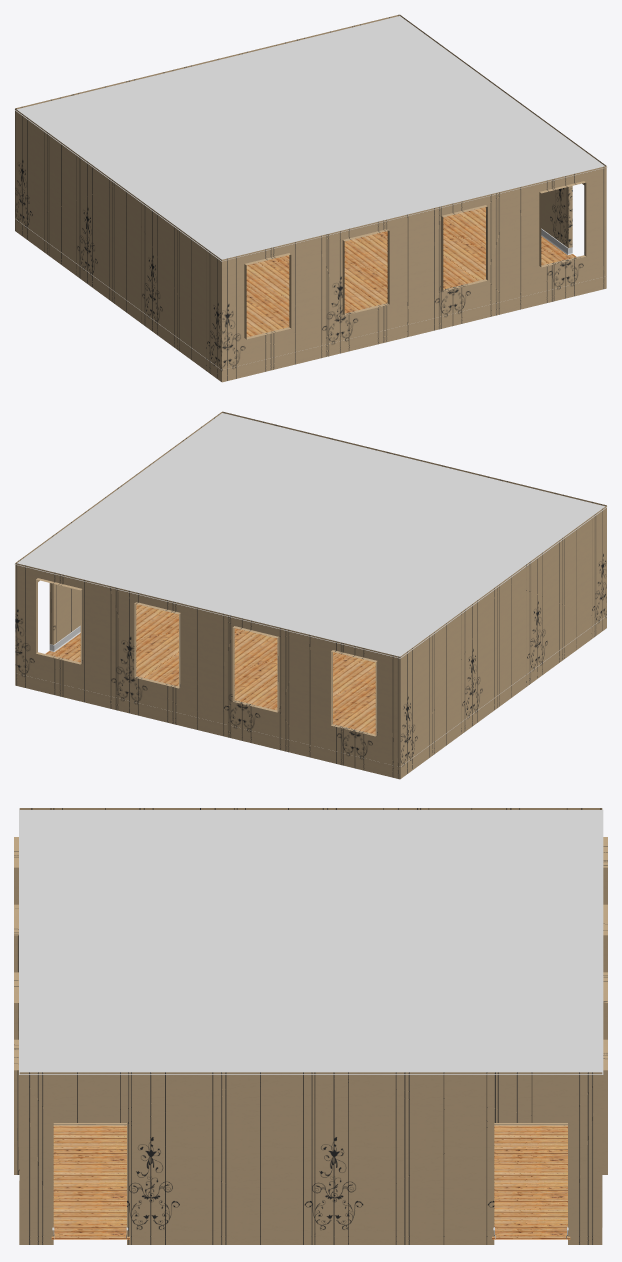
The model's file is BUILDING_flat_02.FBX.
3 renders of one model, top to bottom at view 1: azimuth 30°, elevation 25°; view 2: azimuth 150°, elevation 25°; view 3: azimuth 270°, elevation 25°, orthographic. The views are drawn at different scales.
Parts seen in each view (by area): view 1: BUILDING_flat_02_ceiling, BUILDING_flat_02_bigwall_03, BUILDING_flat_02_bigwall_04, BUILDING_flat_02_floor, BUILDING_flat_02_wall_03, BUILDING_flat_02_wall_02, BUILDING_flat_02_wall_01, BUILDING_flat_02_wall_04, BUILDING_flat_02_bigwall_02; view 2: BUILDING_flat_02_ceiling, BUILDING_flat_02_bigwall_03, BUILDING_flat_02_bigwall_04, BUILDING_flat_02_floor, BUILDING_flat_02_wall_06, BUILDING_flat_02_wall_07, BUILDING_flat_02_wall_08, BUILDING_flat_02_wall_05, BUILDING_flat_02_bigwall_01; view 3: BUILDING_flat_02_ceiling, BUILDING_flat_02_bigwall_01, BUILDING_flat_02_bigwall_02, BUILDING_flat_02_floor, BUILDING_flat_02_wall_08, BUILDING_flat_02_wall_01, BUILDING_flat_02_bigwall_03, BUILDING_flat_02_bigwall_04.
Boxes of the visible parts, x1,y1,x2,y2 form: BUILDING_flat_02_ceiling: (14, 16, 607, 261); BUILDING_flat_02_bigwall_03: (118, 184, 221, 381); BUILDING_flat_02_bigwall_04: (15, 108, 118, 306); BUILDING_flat_02_floor: (246, 207, 576, 337); BUILDING_flat_02_wall_03: (316, 213, 414, 359); BUILDING_flat_02_wall_02: (414, 189, 512, 335); BUILDING_flat_02_wall_01: (512, 166, 606, 311); BUILDING_flat_02_wall_04: (222, 237, 315, 382); BUILDING_flat_02_bigwall_02: (503, 90, 606, 248); BUILDING_flat_02_ceiling: (14, 413, 607, 658); BUILDING_flat_02_bigwall_03: (503, 505, 606, 703); BUILDING_flat_02_bigwall_04: (400, 581, 503, 778); BUILDING_flat_02_floor: (45, 604, 375, 734); BUILDING_flat_02_wall_06: (207, 610, 305, 756); BUILDING_flat_02_wall_07: (109, 586, 207, 732); BUILDING_flat_02_wall_08: (15, 563, 109, 708); BUILDING_flat_02_wall_05: (306, 634, 400, 779); BUILDING_flat_02_bigwall_01: (16, 487, 118, 644); BUILDING_flat_02_ceiling: (19, 809, 603, 1074); BUILDING_flat_02_bigwall_01: (311, 1072, 602, 1244); BUILDING_flat_02_bigwall_02: (19, 1072, 310, 1244); BUILDING_flat_02_floor: (51, 1125, 570, 1239); BUILDING_flat_02_wall_08: (602, 1039, 607, 1174); BUILDING_flat_02_wall_01: (14, 1039, 19, 1174); BUILDING_flat_02_bigwall_03: (19, 808, 310, 809); BUILDING_flat_02_bigwall_04: (311, 808, 602, 809).
Bounding box in the file's own units: 1441 × 434 × 1352.
2 materials, 2 textured.
